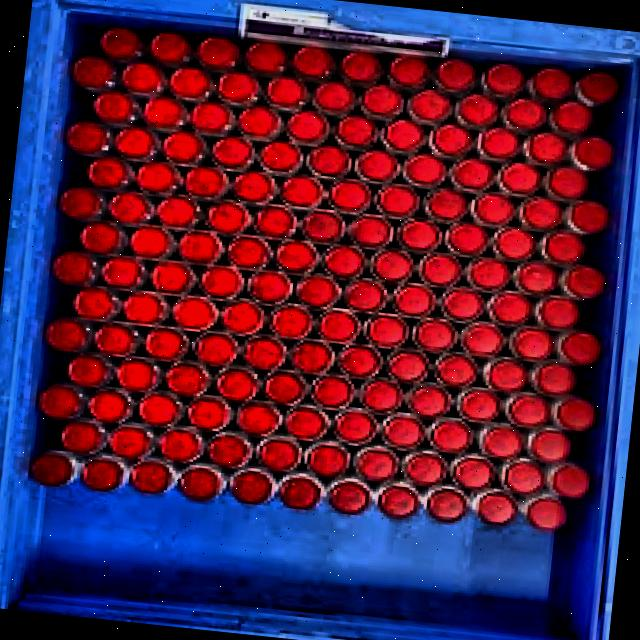vial: (379, 118, 426, 156), (30, 450, 80, 485), (522, 494, 568, 532), (526, 67, 573, 104), (81, 454, 128, 491), (499, 457, 544, 495), (475, 126, 521, 163), (166, 360, 212, 397), (256, 435, 302, 472), (206, 431, 252, 468), (179, 463, 225, 500), (38, 384, 85, 420), (157, 426, 204, 462), (92, 90, 140, 125), (312, 79, 356, 117), (190, 100, 235, 137), (237, 105, 282, 142), (116, 356, 161, 393), (109, 423, 154, 460), (229, 467, 274, 504), (472, 488, 517, 525), (192, 331, 238, 367), (137, 391, 183, 427), (476, 423, 522, 459), (130, 458, 176, 494), (554, 330, 601, 365), (306, 440, 349, 478), (121, 61, 165, 98), (215, 365, 259, 402), (188, 395, 232, 432), (237, 400, 281, 437), (546, 462, 590, 499), (451, 453, 495, 490), (501, 97, 546, 133), (264, 75, 309, 111), (522, 131, 567, 167), (550, 396, 595, 432), (358, 377, 403, 413), (278, 473, 323, 509), (78, 221, 127, 254), (72, 286, 119, 320), (529, 361, 576, 395), (169, 66, 212, 103), (286, 110, 329, 147), (429, 123, 472, 160), (381, 413, 424, 450), (482, 356, 526, 392), (504, 391, 548, 427), (402, 450, 446, 486), (354, 446, 398, 482), (574, 71, 619, 106), (470, 192, 515, 227), (406, 383, 451, 418), (427, 418, 472, 453), (60, 420, 105, 455), (205, 200, 251, 234), (246, 270, 292, 304), (93, 322, 139, 356), (67, 353, 113, 387), (328, 477, 370, 514), (377, 481, 419, 518), (424, 485, 466, 522), (482, 63, 525, 99), (244, 41, 287, 77), (197, 36, 240, 72), (144, 95, 187, 131), (334, 114, 377, 150), (222, 299, 265, 335), (284, 405, 327, 441), (334, 408, 377, 444), (338, 51, 382, 86), (100, 27, 144, 62), (216, 72, 260, 107), (263, 370, 307, 405), (88, 388, 132, 423), (527, 427, 571, 462), (560, 265, 605, 299), (101, 255, 146, 289), (516, 197, 562, 230), (107, 191, 153, 224), (58, 187, 104, 220), (73, 55, 114, 92), (66, 120, 109, 155), (45, 317, 88, 352), (242, 335, 285, 370), (385, 348, 428, 383), (434, 352, 477, 387), (456, 386, 499, 421), (348, 214, 392, 248), (513, 261, 557, 295), (418, 253, 462, 287), (509, 326, 553, 360), (290, 340, 334, 374), (336, 344, 380, 378), (148, 32, 190, 67), (550, 101, 592, 136), (329, 178, 371, 213), (291, 46, 334, 80), (497, 162, 540, 196), (403, 153, 446, 187), (300, 209, 343, 243), (253, 204, 296, 238), (173, 296, 216, 330), (144, 327, 187, 361), (355, 149, 399, 182), (312, 374, 353, 409), (545, 166, 588, 199), (376, 184, 419, 217), (492, 227, 535, 260), (227, 235, 270, 268), (200, 265, 243, 298), (540, 231, 584, 263), (388, 56, 429, 90), (399, 218, 440, 252), (414, 318, 455, 352), (467, 257, 509, 290), (393, 284, 435, 317), (461, 323, 503, 356), (137, 161, 178, 194), (446, 222, 487, 255), (324, 245, 365, 278), (151, 261, 192, 294), (434, 58, 476, 90), (211, 136, 253, 168), (185, 166, 227, 198), (179, 231, 221, 263), (344, 280, 387, 311), (53, 251, 92, 285), (452, 158, 492, 191), (373, 249, 413, 282), (276, 240, 316, 273), (123, 292, 163, 325), (163, 131, 204, 163), (156, 196, 197, 228), (308, 145, 350, 176), (129, 226, 171, 257), (574, 137, 612, 171), (362, 84, 401, 117), (115, 126, 155, 158), (427, 188, 467, 220), (567, 201, 607, 233), (298, 275, 338, 307), (366, 315, 406, 347), (260, 141, 301, 172), (281, 176, 322, 207), (458, 94, 497, 126), (411, 89, 450, 121), (444, 288, 483, 320), (540, 296, 579, 328), (319, 310, 358, 342), (271, 306, 311, 337), (87, 157, 126, 188), (492, 292, 531, 323), (234, 171, 272, 201)
